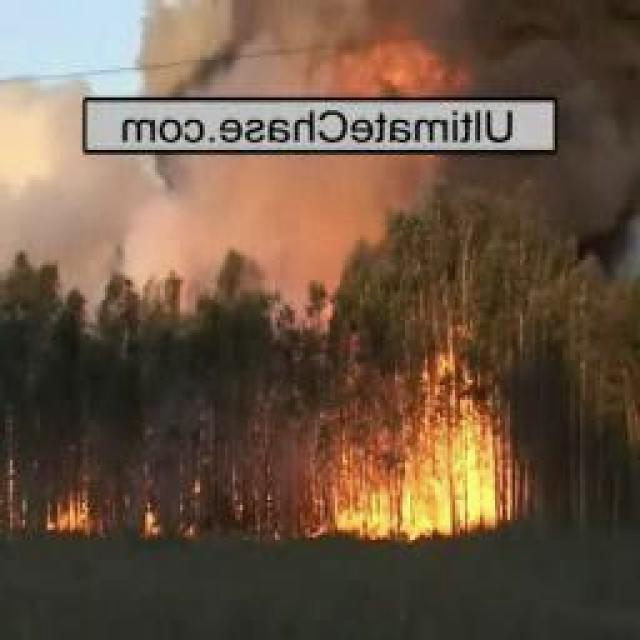Fire: (322, 350, 522, 540), (143, 473, 209, 538), (40, 492, 102, 535)
